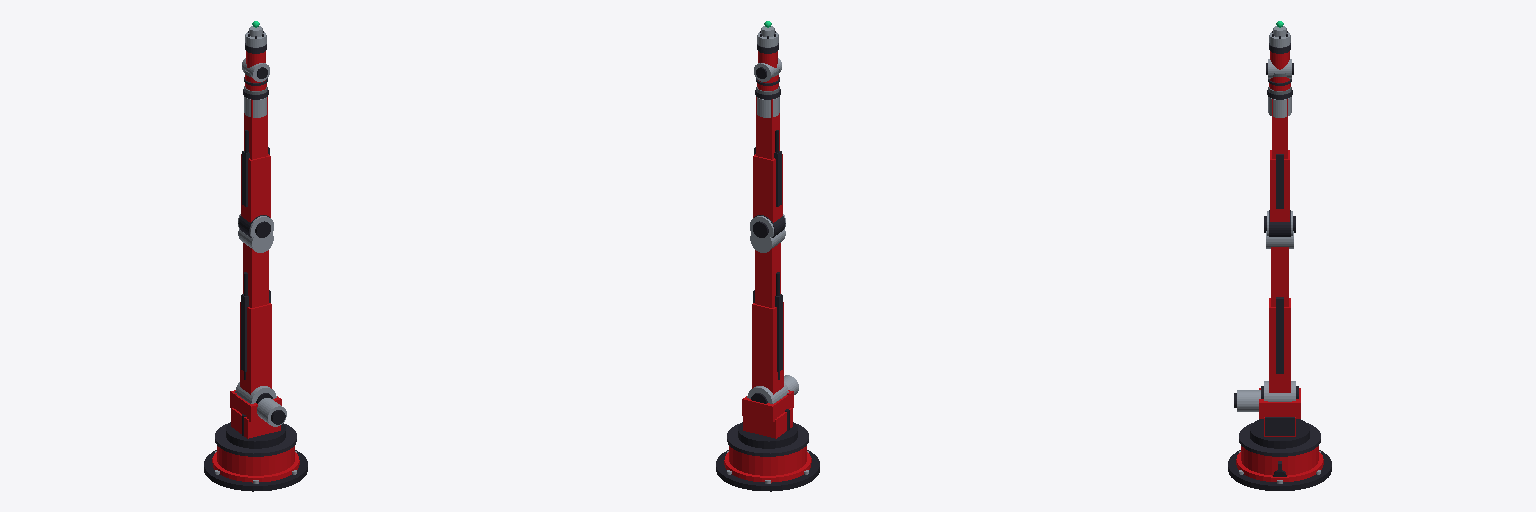
The robot description file, URDF, robot "abb_irb1600":
<?xml version="1.0" encoding="utf-8"?>
<robot name="abb_irb1600">
  <!-- ABB IRB 1600 — procedurally generated by orolp.robot_library.urdf_builder (payload 6 kg, reach 1200 mm, 6 DOF, repeatability ±0.02 mm). Appearance: 60 primitives in 'industrial' style (primary/accent/metal/dark 4-role palette). No vendor CAD assets. Parameters verified=False. -->
  <link name="base_link">
    <visual>
      <origin xyz="0 0 0.00864" rpy="0 0 0"/>
      <geometry>
        <cylinder radius="0.152914" length="0.01728"/>
      </geometry>
      <material name="base_link_mat_0">
        <color rgba="0.17 0.17 0.204 1"/>
      </material>
    </visual>
    <visual>
      <origin xyz="0 0 0.02484" rpy="0 0 0"/>
      <geometry>
        <cylinder radius="0.127809" length="0.01512"/>
      </geometry>
      <material name="base_link_mat_1">
        <color rgba="0.8 0.11 0.14 1"/>
      </material>
    </visual>
    <visual>
      <origin xyz="0 0 0.06588" rpy="0 0 0"/>
      <geometry>
        <cylinder radius="0.114115" length="0.06696"/>
      </geometry>
      <material name="base_link_mat_2">
        <color rgba="0.8 0.11 0.14 1"/>
      </material>
    </visual>
    <visual>
      <origin xyz="0 0 0.1026" rpy="0 0 0"/>
      <geometry>
        <cylinder radius="0.120962" length="0.0108"/>
      </geometry>
      <material name="base_link_mat_3">
        <color rgba="0.2 0.2 0.24 1"/>
      </material>
    </visual>
    <visual>
      <origin xyz="0.102703 0 0.06696" rpy="0 0 0"/>
      <geometry>
        <box size="0.05934 0.013694 0.02808"/>
      </geometry>
      <material name="base_link_mat_4">
        <color rgba="0.2 0.2 0.24 1"/>
      </material>
    </visual>
    <visual>
      <origin xyz="0.104986 0 0.0324" rpy="0 1.570796 0"/>
      <geometry>
        <cylinder radius="0.0194" length="0.034234"/>
      </geometry>
      <material name="base_link_mat_5">
        <color rgba="0.17 0.17 0.204 1"/>
      </material>
    </visual>
    <visual>
      <origin xyz="0.130091 0 0.01404" rpy="0 0 0"/>
      <geometry>
        <cylinder radius="0.008559" length="0.02376"/>
      </geometry>
      <material name="base_link_mat_6">
        <color rgba="0.6 0.63 0.67 1"/>
      </material>
    </visual>
    <visual>
      <origin xyz="0.065046 0.112662 0.01404" rpy="0 0 0"/>
      <geometry>
        <cylinder radius="0.008559" length="0.02376"/>
      </geometry>
      <material name="base_link_mat_7">
        <color rgba="0.6 0.63 0.67 1"/>
      </material>
    </visual>
    <visual>
      <origin xyz="-0.065046 0.112662 0.01404" rpy="0 0 0"/>
      <geometry>
        <cylinder radius="0.008559" length="0.02376"/>
      </geometry>
      <material name="base_link_mat_8">
        <color rgba="0.6 0.63 0.67 1"/>
      </material>
    </visual>
    <visual>
      <origin xyz="-0.130091 0 0.01404" rpy="0 0 0"/>
      <geometry>
        <cylinder radius="0.008559" length="0.02376"/>
      </geometry>
      <material name="base_link_mat_9">
        <color rgba="0.6 0.63 0.67 1"/>
      </material>
    </visual>
    <visual>
      <origin xyz="-0.065046 -0.112662 0.01404" rpy="0 0 0"/>
      <geometry>
        <cylinder radius="0.008559" length="0.02376"/>
      </geometry>
      <material name="base_link_mat_10">
        <color rgba="0.6 0.63 0.67 1"/>
      </material>
    </visual>
    <visual>
      <origin xyz="0.065046 -0.112662 0.01404" rpy="0 0 0"/>
      <geometry>
        <cylinder radius="0.008559" length="0.02376"/>
      </geometry>
      <material name="base_link_mat_11">
        <color rgba="0.6 0.63 0.67 1"/>
      </material>
    </visual>
    <collision>
      <origin xyz="0 0 0.054" rpy="0 0 0"/>
      <geometry>
        <cylinder radius="0.114115" length="0.108"/>
      </geometry>
    </collision>
  </link>
  <joint name="joint_1" type="revolute">
    <parent link="base_link"/>
    <child link="link_1"/>
    <origin xyz="0 0 0.108" rpy="0 0 0"/>
    <axis xyz="0 0 1"/>
    <limit lower="-3.141593" upper="3.141593" effort="76" velocity="4.363323"/>
  </joint>
  <link name="link_1">
    <visual>
      <origin xyz="0 0 0.01178" rpy="0 0 0"/>
      <geometry>
        <cylinder radius="0.088347" length="0.023559"/>
      </geometry>
      <material name="link_1_mat_0">
        <color rgba="0.17 0.17 0.204 1"/>
      </material>
    </visual>
    <visual>
      <origin xyz="0 0 0.053919" rpy="0 0 0"/>
      <geometry>
        <box size="0.111906 0.095709 0.06072"/>
      </geometry>
      <material name="link_1_mat_1">
        <color rgba="0.8 0.11 0.14 1"/>
      </material>
    </visual>
    <visual>
      <origin xyz="0 0 0.106719" rpy="0 0 0"/>
      <geometry>
        <box size="0.098654 0.082457 0.04488"/>
      </geometry>
      <material name="link_1_mat_2">
        <color rgba="0.8 0.11 0.14 1"/>
      </material>
    </visual>
    <visual>
      <origin xyz="0 0.048591 0.1056" rpy="0 0 0"/>
      <geometry>
        <box size="0.103072 0.025032 0.0528"/>
      </geometry>
      <material name="link_1_mat_3">
        <color rgba="0.8 0.11 0.14 1"/>
      </material>
    </visual>
    <visual>
      <origin xyz="0 -0.048591 0.1056" rpy="0 0 0"/>
      <geometry>
        <box size="0.103072 0.025032 0.0528"/>
      </geometry>
      <material name="link_1_mat_4">
        <color rgba="0.8 0.11 0.14 1"/>
      </material>
    </visual>
    <visual>
      <origin xyz="0 -0.086875 0.11352" rpy="1.570796 0 0"/>
      <geometry>
        <cylinder radius="0.032394" length="0.077304"/>
      </geometry>
      <material name="link_1_mat_5">
        <color rgba="0.6 0.63 0.67 1"/>
      </material>
    </visual>
    <visual>
      <origin xyz="0 -0.129576 0.11352" rpy="1.570796 0 0"/>
      <geometry>
        <cylinder radius="0.022087" length="0.01178"/>
      </geometry>
      <material name="link_1_mat_6">
        <color rgba="0.17 0.17 0.204 1"/>
      </material>
    </visual>
    <visual>
      <origin xyz="-0.051536 -0.020614 0.05544" rpy="0 0 0"/>
      <geometry>
        <cylinder radius="0.008098" length="0.066"/>
      </geometry>
      <material name="link_1_mat_7">
        <color rgba="0.17 0.17 0.204 1"/>
      </material>
    </visual>
    <visual>
      <origin xyz="0.053008 0 0.05544" rpy="0 0 0"/>
      <geometry>
        <box size="0.007362 0.085402 0.05808"/>
      </geometry>
      <material name="link_1_mat_8">
        <color rgba="0.2 0.2 0.24 1"/>
      </material>
    </visual>
    <collision>
      <origin xyz="0 0 0.066" rpy="0 0 0"/>
      <geometry>
        <cylinder radius="0.088347" length="0.132"/>
      </geometry>
    </collision>
  </link>
  <joint name="joint_2" type="revolute">
    <parent link="link_1"/>
    <child link="link_2"/>
    <origin xyz="0 0 0.132" rpy="0 0 0"/>
    <axis xyz="0 1 0"/>
    <limit lower="-1.919862" upper="1.919862" effort="76" velocity="4.363323"/>
  </joint>
  <link name="link_2">
    <visual>
      <origin xyz="0 0 0.14904" rpy="0 0 0"/>
      <geometry>
        <box size="0.07215 0.061843 0.29808"/>
      </geometry>
      <material name="link_2_mat_0">
        <color rgba="0.8 0.11 0.14 1"/>
      </material>
    </visual>
    <visual>
      <origin xyz="0 0 0.414" rpy="0 0 0"/>
      <geometry>
        <box size="0.058898 0.050063 0.276"/>
      </geometry>
      <material name="link_2_mat_1">
        <color rgba="0.8 0.11 0.14 1"/>
      </material>
    </visual>
    <visual>
      <origin xyz="0 0 0.20976" rpy="0 0 0"/>
      <geometry>
        <box size="0.085402 0.022087 0.24288"/>
      </geometry>
      <material name="link_2_mat_2">
        <color rgba="0.2 0.2 0.24 1"/>
      </material>
    </visual>
    <visual>
      <origin xyz="0 0 0" rpy="1.570796 0 0"/>
      <geometry>
        <cylinder radius="0.042701" length="0.094237"/>
      </geometry>
      <material name="link_2_mat_3">
        <color rgba="0.6 0.63 0.67 1"/>
      </material>
    </visual>
    <visual>
      <origin xyz="0 0.051536 0" rpy="1.570796 0 0"/>
      <geometry>
        <cylinder radius="0.026504" length="0.007362"/>
      </geometry>
      <material name="link_2_mat_4">
        <color rgba="0.17 0.17 0.204 1"/>
      </material>
    </visual>
    <visual>
      <origin xyz="0 -0.051536 0" rpy="1.570796 0 0"/>
      <geometry>
        <cylinder radius="0.026504" length="0.007362"/>
      </geometry>
      <material name="link_2_mat_5">
        <color rgba="0.17 0.17 0.204 1"/>
      </material>
    </visual>
    <visual>
      <origin xyz="0 0 -0.039744" rpy="0 0 0"/>
      <geometry>
        <box size="0.079512 0.06626 0.0828"/>
      </geometry>
      <material name="link_2_mat_6">
        <color rgba="0.17 0.17 0.204 1"/>
      </material>
    </visual>
    <visual>
      <origin xyz="0 0 -0.083904" rpy="0 0 0"/>
      <geometry>
        <cylinder radius="0.042701" length="0.02208"/>
      </geometry>
      <material name="link_2_mat_7">
        <color rgba="0.17 0.17 0.204 1"/>
      </material>
    </visual>
    <visual>
      <origin xyz="0 0 0.51336" rpy="1.570796 0 0"/>
      <geometry>
        <cylinder radius="0.036811" length="0.080985"/>
      </geometry>
      <material name="link_2_mat_8">
        <color rgba="0.6 0.63 0.67 1"/>
      </material>
    </visual>
    <visual>
      <origin xyz="0 0 0.552" rpy="1.570796 0 0"/>
      <geometry>
        <cylinder radius="0.041229" length="0.063315"/>
      </geometry>
      <material name="link_2_mat_9">
        <color rgba="0.2 0.2 0.24 1"/>
      </material>
    </visual>
    <visual>
      <origin xyz="-0.033866 0 0.23184" rpy="0 0 0"/>
      <geometry>
        <cylinder radius="0.006626" length="0.34224"/>
      </geometry>
      <material name="link_2_mat_10">
        <color rgba="0.17 0.17 0.204 1"/>
      </material>
    </visual>
    <collision>
      <origin xyz="0 0 0.276" rpy="0 0 0"/>
      <geometry>
        <box size="0.073623 0.060371 0.552"/>
      </geometry>
    </collision>
  </link>
  <joint name="joint_3" type="revolute">
    <parent link="link_2"/>
    <child link="link_3"/>
    <origin xyz="0 0 0.552" rpy="0 0 0"/>
    <axis xyz="0 1 0"/>
    <limit lower="-3.926991" upper="1.48353" effort="76" velocity="4.363323"/>
  </joint>
  <link name="link_3">
    <visual>
      <origin xyz="0 0 0.11232" rpy="0 0 0"/>
      <geometry>
        <box size="0.067733 0.057426 0.22464"/>
      </geometry>
      <material name="link_3_mat_0">
        <color rgba="0.8 0.11 0.14 1"/>
      </material>
    </visual>
    <visual>
      <origin xyz="0 0 0.31968" rpy="0 0 0"/>
      <geometry>
        <box size="0.054481 0.045646 0.22464"/>
      </geometry>
      <material name="link_3_mat_1">
        <color rgba="0.8 0.11 0.14 1"/>
      </material>
    </visual>
    <visual>
      <origin xyz="0 0 0" rpy="1.570796 0 0"/>
      <geometry>
        <cylinder radius="0.039756" length="0.07804"/>
      </geometry>
      <material name="link_3_mat_2">
        <color rgba="0.6 0.63 0.67 1"/>
      </material>
    </visual>
    <visual>
      <origin xyz="0 0.042701 0" rpy="1.570796 0 0"/>
      <geometry>
        <cylinder radius="0.025032" length="0.007362"/>
      </geometry>
      <material name="link_3_mat_3">
        <color rgba="0.17 0.17 0.204 1"/>
      </material>
    </visual>
    <visual>
      <origin xyz="0 -0.042701 0" rpy="1.570796 0 0"/>
      <geometry>
        <cylinder radius="0.025032" length="0.007362"/>
      </geometry>
      <material name="link_3_mat_4">
        <color rgba="0.17 0.17 0.204 1"/>
      </material>
    </visual>
    <visual>
      <origin xyz="0 0 0.15552" rpy="0 0 0"/>
      <geometry>
        <box size="0.079512 0.020614 0.1728"/>
      </geometry>
      <material name="link_3_mat_5">
        <color rgba="0.2 0.2 0.24 1"/>
      </material>
    </visual>
    <visual>
      <origin xyz="0 0 0.3888" rpy="0 0 0"/>
      <geometry>
        <cylinder radius="0.033866" length="0.057426"/>
      </geometry>
      <material name="link_3_mat_6">
        <color rgba="0.6 0.63 0.67 1"/>
      </material>
    </visual>
    <visual>
      <origin xyz="0 0 0.42768" rpy="0 0 0"/>
      <geometry>
        <cylinder radius="0.036811" length="0.014725"/>
      </geometry>
      <material name="link_3_mat_7">
        <color rgba="0.2 0.2 0.24 1"/>
      </material>
    </visual>
    <visual>
      <origin xyz="-0.030921 0 0.19008" rpy="0 0 0"/>
      <geometry>
        <cylinder radius="0.00589" length="0.24192"/>
      </geometry>
      <material name="link_3_mat_8">
        <color rgba="0.17 0.17 0.204 1"/>
      </material>
    </visual>
    <collision>
      <origin xyz="0 0 0.216" rpy="0 0 0"/>
      <geometry>
        <box size="0.069205 0.056748 0.432"/>
      </geometry>
    </collision>
  </link>
  <joint name="joint_4" type="revolute">
    <parent link="link_3"/>
    <child link="link_4"/>
    <origin xyz="0 0 0.432" rpy="0 0 0"/>
    <axis xyz="0 0 1"/>
    <limit lower="-3.490659" upper="3.490659" effort="76" velocity="5.585054"/>
  </joint>
  <link name="link_4">
    <visual>
      <origin xyz="0 0 0.036" rpy="0 0 0"/>
      <geometry>
        <cylinder radius="0.030921" length="0.06768"/>
      </geometry>
      <material name="link_4_mat_0">
        <color rgba="0.8 0.11 0.14 1"/>
      </material>
    </visual>
    <visual>
      <origin xyz="0 0 0.0072" rpy="0 0 0"/>
      <geometry>
        <cylinder radius="0.033866" length="0.01152"/>
      </geometry>
      <material name="link_4_mat_1">
        <color rgba="0.432 0.4536 0.4824 1"/>
      </material>
    </visual>
    <visual>
      <origin xyz="0 0 0.0648" rpy="0 0 0"/>
      <geometry>
        <cylinder radius="0.033866" length="0.01152"/>
      </geometry>
      <material name="link_4_mat_2">
        <color rgba="0.432 0.4536 0.4824 1"/>
      </material>
    </visual>
    <visual>
      <origin xyz="0 0 0.036" rpy="0 0 0"/>
      <geometry>
        <cylinder radius="0.035339" length="0.0072"/>
      </geometry>
      <material name="link_4_mat_3">
        <color rgba="0.2 0.2 0.24 1"/>
      </material>
    </visual>
    <collision>
      <origin xyz="0 0 0.036" rpy="0 0 0"/>
      <geometry>
        <cylinder radius="0.032394" length="0.072"/>
      </geometry>
    </collision>
  </link>
  <joint name="joint_5" type="revolute">
    <parent link="link_4"/>
    <child link="link_5"/>
    <origin xyz="0 0 0.072" rpy="0 0 0"/>
    <axis xyz="0 1 0"/>
    <limit lower="-2.094395" upper="2.094395" effort="76" velocity="5.585054"/>
  </joint>
  <link name="link_5">
    <visual>
      <origin xyz="0 0 0" rpy="1.570796 0 0"/>
      <geometry>
        <cylinder radius="0.029449" length="0.067733"/>
      </geometry>
      <material name="link_5_mat_0">
        <color rgba="0.6 0.63 0.67 1"/>
      </material>
    </visual>
    <visual>
      <origin xyz="0 0 0.0324" rpy="0 0 0"/>
      <geometry>
        <cylinder radius="0.027977" length="0.06192"/>
      </geometry>
      <material name="link_5_mat_1">
        <color rgba="0.8 0.11 0.14 1"/>
      </material>
    </visual>
    <visual>
      <origin xyz="0 0 0.06768" rpy="0 0 0"/>
      <geometry>
        <cylinder radius="0.030921" length="0.01152"/>
      </geometry>
      <material name="link_5_mat_2">
        <color rgba="0.2 0.2 0.24 1"/>
      </material>
    </visual>
    <visual>
      <origin xyz="0 0.036811 0" rpy="1.570796 0 0"/>
      <geometry>
        <cylinder radius="0.017669" length="0.007362"/>
      </geometry>
      <material name="link_5_mat_3">
        <color rgba="0.17 0.17 0.204 1"/>
      </material>
    </visual>
    <visual>
      <origin xyz="0 -0.036811 0" rpy="1.570796 0 0"/>
      <geometry>
        <cylinder radius="0.017669" length="0.007362"/>
      </geometry>
      <material name="link_5_mat_4">
        <color rgba="0.17 0.17 0.204 1"/>
      </material>
    </visual>
    <collision>
      <origin xyz="0 0 0.036" rpy="0 0 0"/>
      <geometry>
        <box size="0.062579 0.051315 0.072"/>
      </geometry>
    </collision>
  </link>
  <joint name="joint_6" type="revolute">
    <parent link="link_5"/>
    <child link="tool0"/>
    <origin xyz="0 0 0.072" rpy="0 0 0"/>
    <axis xyz="0 0 1"/>
    <limit lower="-6.981317" upper="6.981317" effort="76" velocity="7.330383"/>
  </joint>
  <link name="tool0">
    <visual>
      <origin xyz="0 0 0.01872" rpy="0 0 0"/>
      <geometry>
        <cylinder radius="0.030921" length="0.03744"/>
      </geometry>
      <material name="tool0_mat_0">
        <color rgba="0.6 0.63 0.67 1"/>
      </material>
    </visual>
    <visual>
      <origin xyz="0 0 0.04824" rpy="0 0 0"/>
      <geometry>
        <cylinder radius="0.019171" length="0.0216"/>
      </geometry>
      <material name="tool0_mat_1">
        <color rgba="0.6 0.63 0.67 1"/>
      </material>
    </visual>
    <visual>
      <origin xyz="0 0 0.00504" rpy="0 0 0"/>
      <geometry>
        <cylinder radius="0.032777" length="0.01008"/>
      </geometry>
      <material name="tool0_mat_2">
        <color rgba="0.2 0.2 0.24 1"/>
      </material>
    </visual>
    <visual>
      <origin xyz="0.024119 0 0.036" rpy="0 0 0"/>
      <geometry>
        <cylinder radius="0.002783" length="0.01584"/>
      </geometry>
      <material name="tool0_mat_3">
        <color rgba="0.17 0.17 0.204 1"/>
      </material>
    </visual>
    <visual>
      <origin xyz="0.012059 0.020887 0.036" rpy="0 0 0"/>
      <geometry>
        <cylinder radius="0.002783" length="0.01584"/>
      </geometry>
      <material name="tool0_mat_4">
        <color rgba="0.17 0.17 0.204 1"/>
      </material>
    </visual>
    <visual>
      <origin xyz="-0.012059 0.020887 0.036" rpy="0 0 0"/>
      <geometry>
        <cylinder radius="0.002783" length="0.01584"/>
      </geometry>
      <material name="tool0_mat_5">
        <color rgba="0.17 0.17 0.204 1"/>
      </material>
    </visual>
    <visual>
      <origin xyz="-0.024119 0 0.036" rpy="0 0 0"/>
      <geometry>
        <cylinder radius="0.002783" length="0.01584"/>
      </geometry>
      <material name="tool0_mat_6">
        <color rgba="0.17 0.17 0.204 1"/>
      </material>
    </visual>
    <visual>
      <origin xyz="-0.012059 -0.020887 0.036" rpy="0 0 0"/>
      <geometry>
        <cylinder radius="0.002783" length="0.01584"/>
      </geometry>
      <material name="tool0_mat_7">
        <color rgba="0.17 0.17 0.204 1"/>
      </material>
    </visual>
    <visual>
      <origin xyz="0.012059 -0.020887 0.036" rpy="0 0 0"/>
      <geometry>
        <cylinder radius="0.002783" length="0.01584"/>
      </geometry>
      <material name="tool0_mat_8">
        <color rgba="0.17 0.17 0.204 1"/>
      </material>
    </visual>
    <collision>
      <origin xyz="0 0 0.036" rpy="0 0 0"/>
      <geometry>
        <cylinder radius="0.030921" length="0.072"/>
      </geometry>
    </collision>
  </link>
  <link name="tcp">
    <visual>
      <origin xyz="0 0 0" rpy="0 0 0"/>
      <geometry>
        <sphere radius="0.010513"/>
      </geometry>
      <material name="tcp_mat">
        <color rgba="0.15 0.85 0.55 1"/>
      </material>
    </visual>
  </link>
  <joint name="tcp_joint" type="fixed">
    <parent link="tool0"/>
    <child link="tcp"/>
    <origin xyz="0 0 0.072" rpy="0 0 0"/>
  </joint>
</robot>

--- What the picture shows (computed from the rendered views, not written in the file) ---
3 views of the same robot in one strip: view 1: azimuth 30°, elevation 25°; view 2: azimuth 150°, elevation 25°; view 3: azimuth 270°, elevation 25° (orthographic).
Model abb_irb1600 with 8 links and 7 joints (6 revolute, 1 fixed), rooted at base_link, posed all joints at 0.
Visible links, largest first — view 1: link_2, base_link, link_3, link_1, link_5; view 2: link_2, base_link, link_3, link_1, link_5; view 3: base_link, link_2, link_1, link_3, link_5.
Boxes of the visible links, x1,y1,x2,y2 form: link_2: (235, 215, 276, 403); base_link: (204, 423, 307, 491); link_3: (238, 89, 273, 237); link_1: (226, 390, 286, 448); link_5: (242, 48, 269, 81); link_2: (747, 215, 788, 403); base_link: (716, 423, 819, 491); link_3: (750, 89, 785, 237); link_1: (738, 375, 798, 448); link_5: (754, 48, 781, 81); base_link: (1228, 423, 1331, 490); link_2: (1261, 210, 1298, 401); link_1: (1234, 388, 1309, 448); link_3: (1264, 90, 1295, 235); link_5: (1266, 48, 1293, 78).
Size in the robot's own frame: 0.3058 by 0.3058 by 1.45 metres.
Geometry: primitives only (box / cylinder / sphere), no mesh files.
